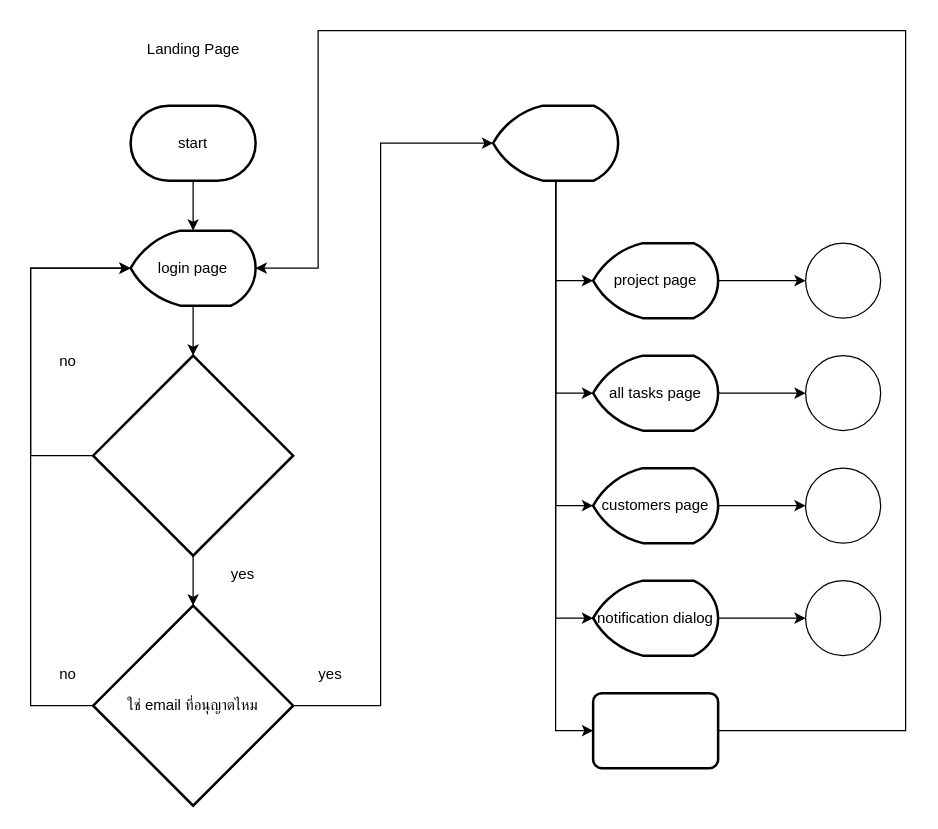
Some shapes in this 938 by 829 pixel diagram are drawn without their labels. The box of each missing label's shape, as (x1, y1, x2, y2) in pixels:
google auth: (91, 354, 294, 556)
logout button: (591, 691, 719, 769)
main page: (491, 104, 619, 181)
